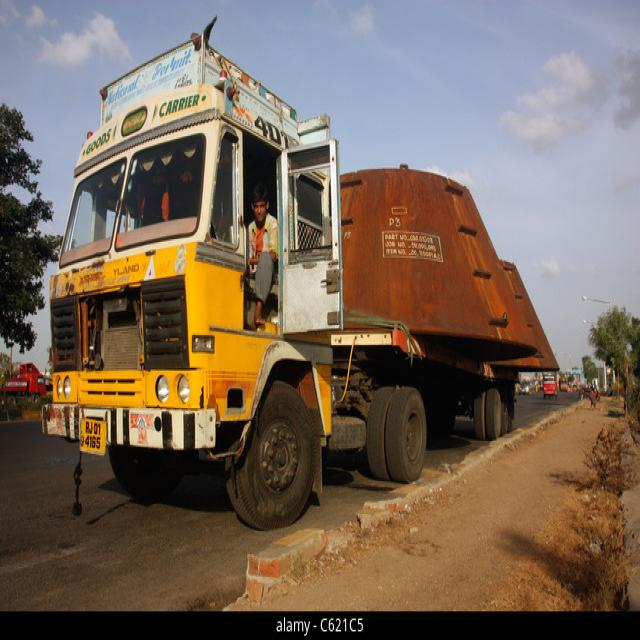normal_truck: (44, 21, 518, 533)
overloaded_truck: (340, 166, 558, 369)
